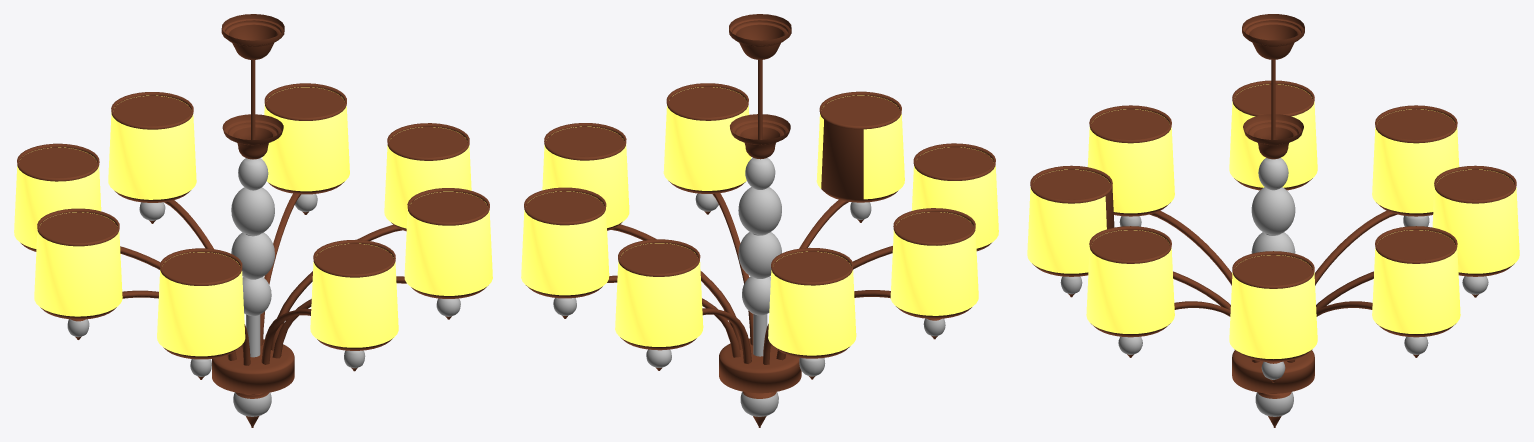
File: chandelier2.fbx
3 views of the same model, side by side, from view 1: azimuth 30°, elevation 25°; view 2: azimuth 150°, elevation 25°; view 3: azimuth 270°, elevation 25° (orthographic).
Parts seen in each view (by area): view 1: Люстра2, 球体, ЛюстраГостинная.001; view 2: Люстра2, 球体, ЛюстраГостинная.001; view 3: Люстра2, ЛюстраГостинная.001, 球体.
Part boxes in pixels (<box>): Люстра2: <box>14,83,492,427</box>; 球体: <box>231,158,274,357</box>; ЛюстраГостинная.001: <box>221,14,284,159</box>; Люстра2: <box>521,83,998,427</box>; 球体: <box>738,157,781,356</box>; ЛюстраГостинная.001: <box>729,14,791,159</box>; Люстра2: <box>1027,80,1519,427</box>; ЛюстраГостинная.001: <box>1242,14,1304,159</box>; 球体: <box>1251,158,1295,253</box>.
Bounding box in the file's own units: 122 × 109 × 122.
